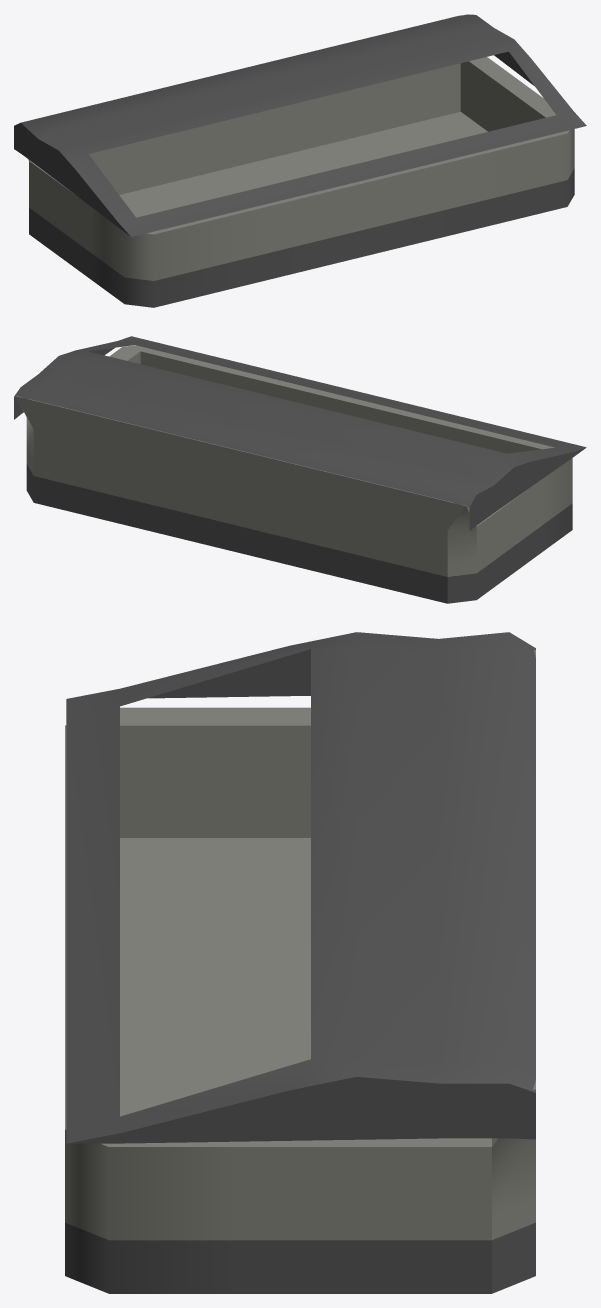
The model's file is container_03.fbx.
3 renders of one model, top to bottom at view 1: azimuth 30°, elevation 25°; view 2: azimuth 150°, elevation 25°; view 3: azimuth 270°, elevation 25°, orthographic. The views are drawn at different scales.
Parts seen in each view (by area): view 1: container_03; view 2: container_03; view 3: container_03.
Boxes of the visible parts, bbox=[...] form: container_03: bbox=[14, 14, 586, 307]; container_03: bbox=[14, 336, 586, 603]; container_03: bbox=[65, 632, 535, 1293].
Bounding box in the file's own units: 288 × 66.35 × 129.
